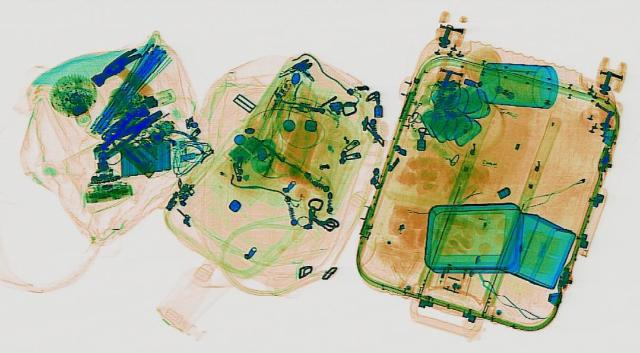Pliers: (78, 102, 168, 154)
